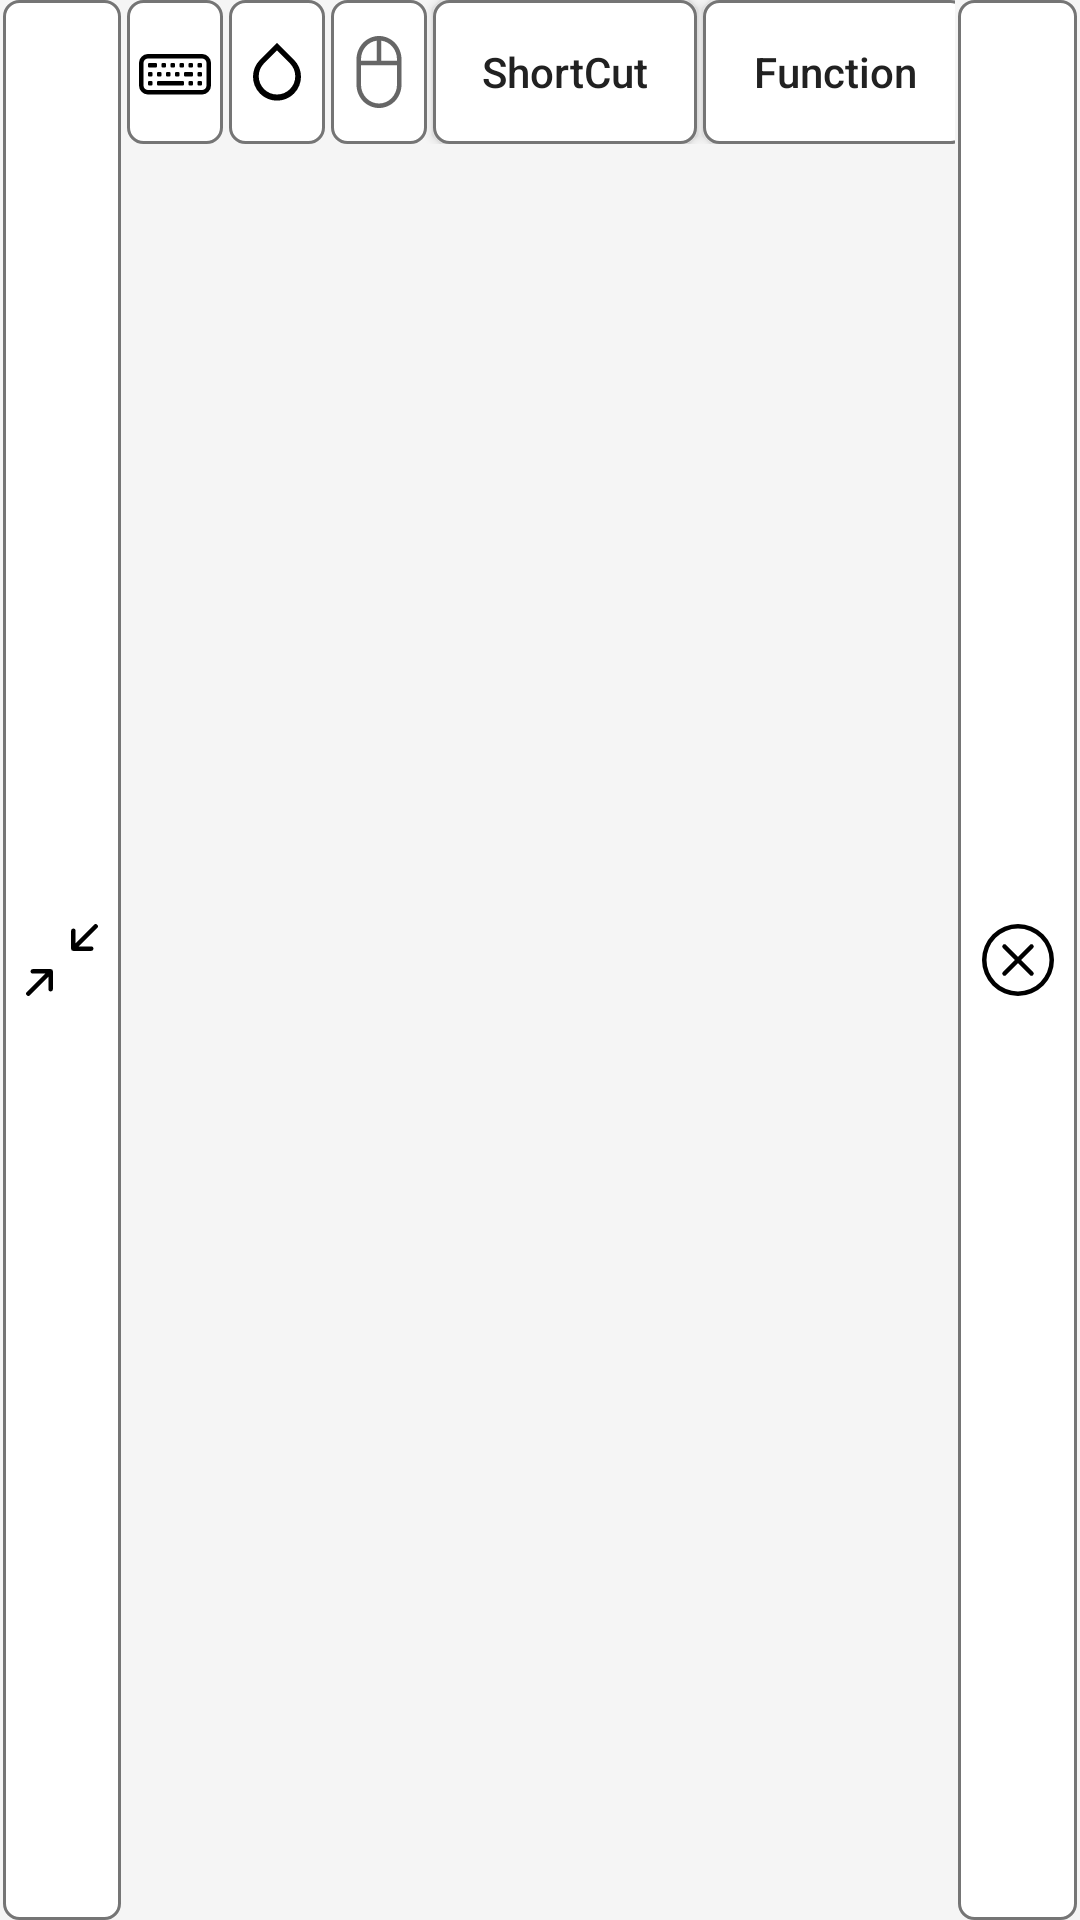

Point at icon controls on the screen. Image size 1080w x 1920h, points as (x,y).
keyboard: (175,72)
mouse: (379,72)
opacity: (277,72)
